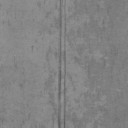surface scratch: (57, 0, 67, 128)
